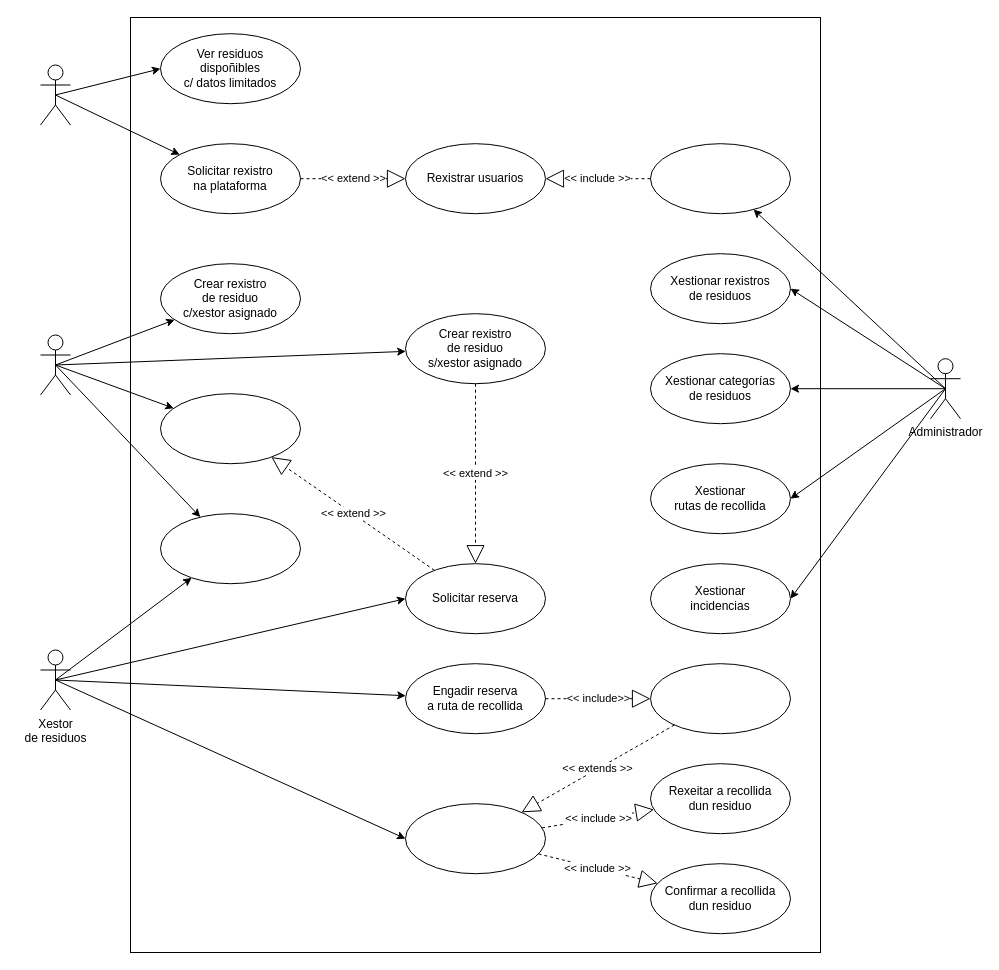
Some shapes in this 999 by 970 pixel diagram are drawn without their labels. Each missing label, with the box of its shape:
Abrir incidencias: (160, 513, 300, 584)
Aprobar reserva dun residuo: (160, 393, 300, 464)
Crear unha ruta de recollida: (650, 663, 790, 734)
Iniciar unha ruta de recollida: (404, 803, 546, 874)
Productor de residuos: (40, 334, 70, 395)
Usuario non rexistrado: (40, 64, 70, 125)
Xestionar usuarios: (650, 143, 790, 214)
